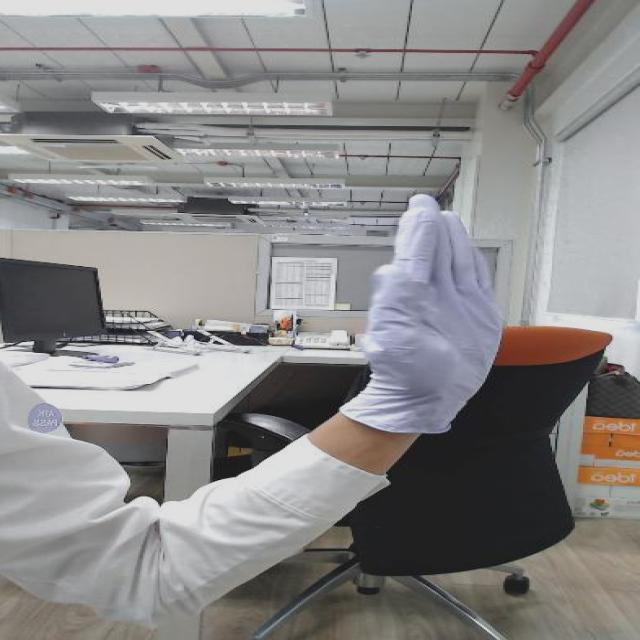glove: (308, 183, 555, 413)
